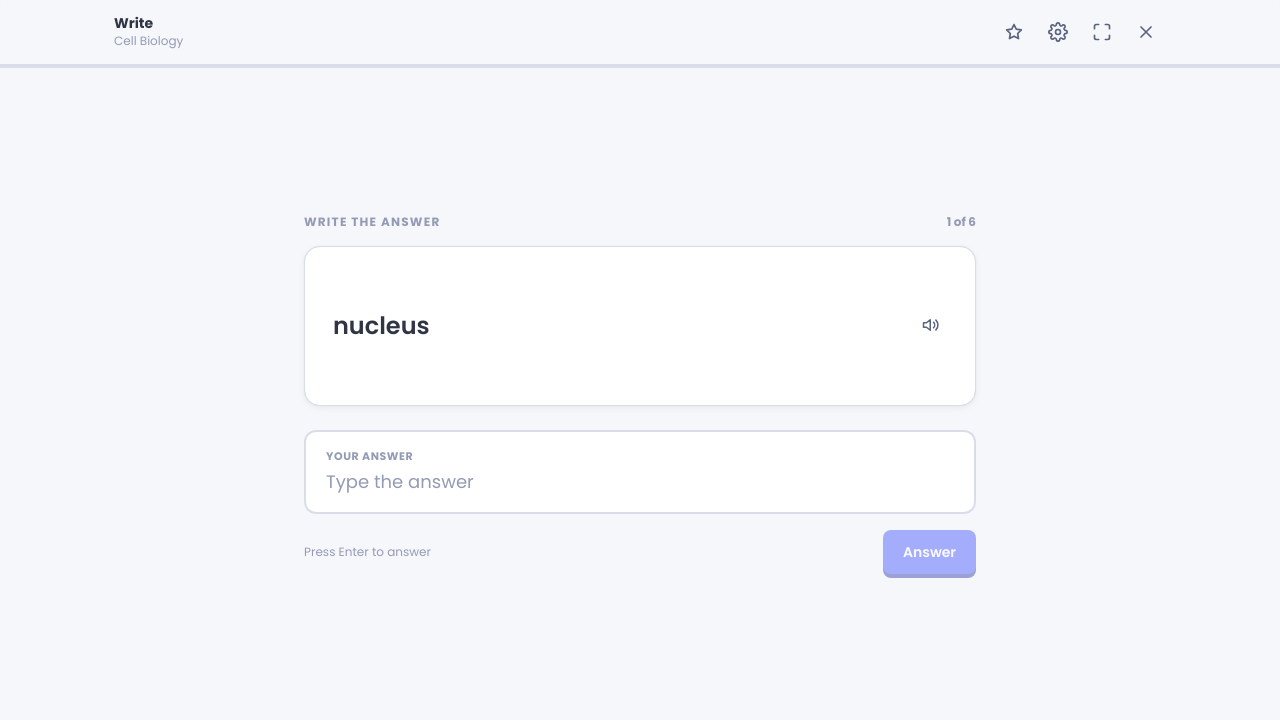
Test: Write › accepts a correct answer and records it
This screenshot has width=1280, height=720.
In the field named "your answer": (640, 482) [326,468,954,496], type "holds the DNA"
Then press Enter
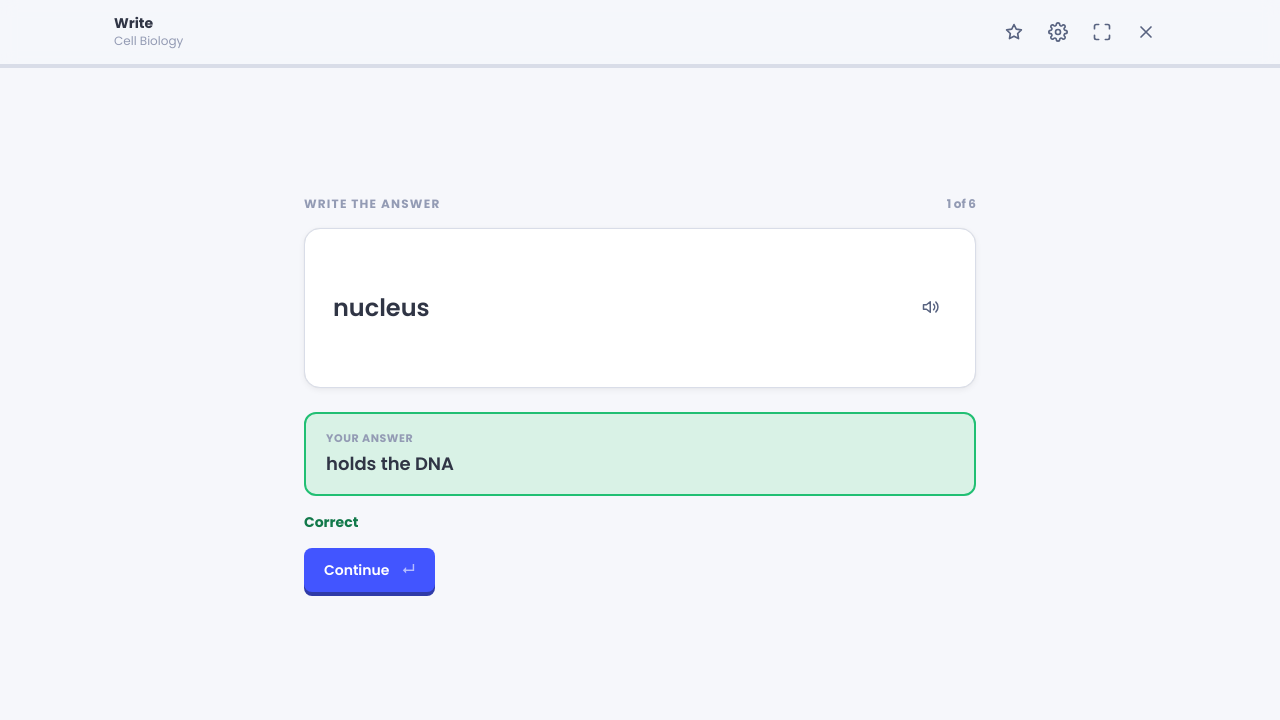
Expected: the text "Correct" is shown, [304,512,358,532]
